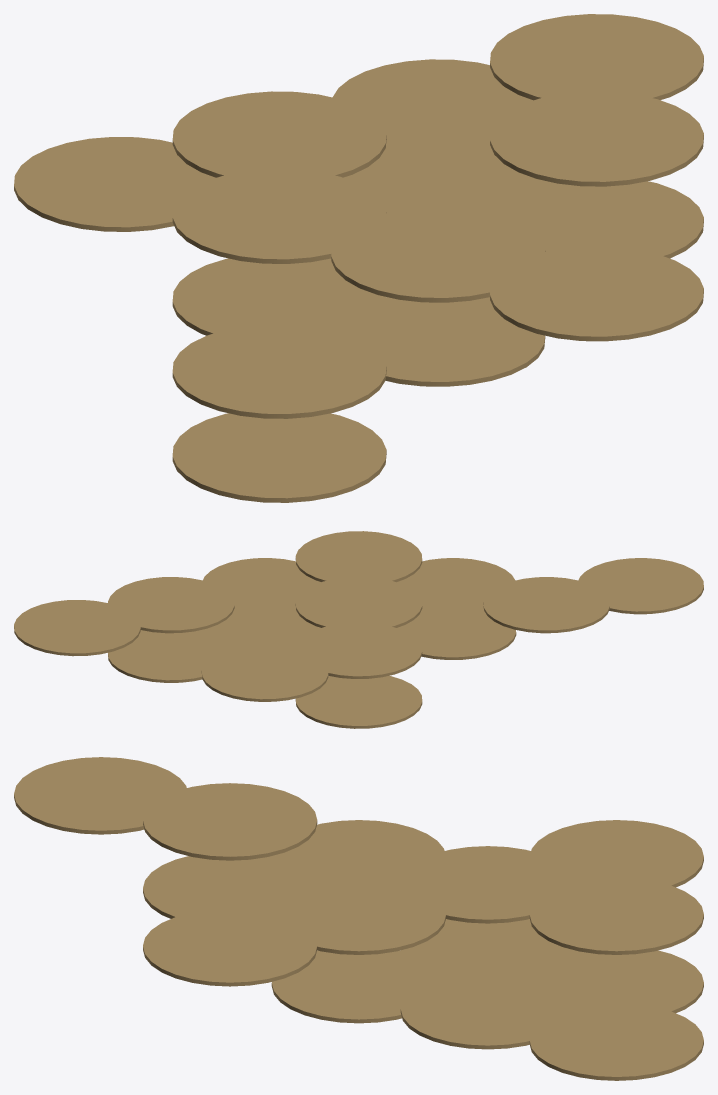
Rendered from cg_petals.glb.
3 views of the same model, one above another, from view 1: azimuth 30°, elevation 25°; view 2: azimuth 150°, elevation 25°; view 3: azimuth 270°, elevation 25° (orthographic). The views are drawn at different scales.
Visible parts, largest first — view 1: n90000; view 2: n90000; view 3: n90000.
Boxes of the visible parts, x1,y1,x2,y2 form: n90000: (14,14,703,502); n90000: (14,531,703,728); n90000: (14,757,703,1080).
Bounding box in the file's own units: 18.1 × 0.24 × 16.22.
